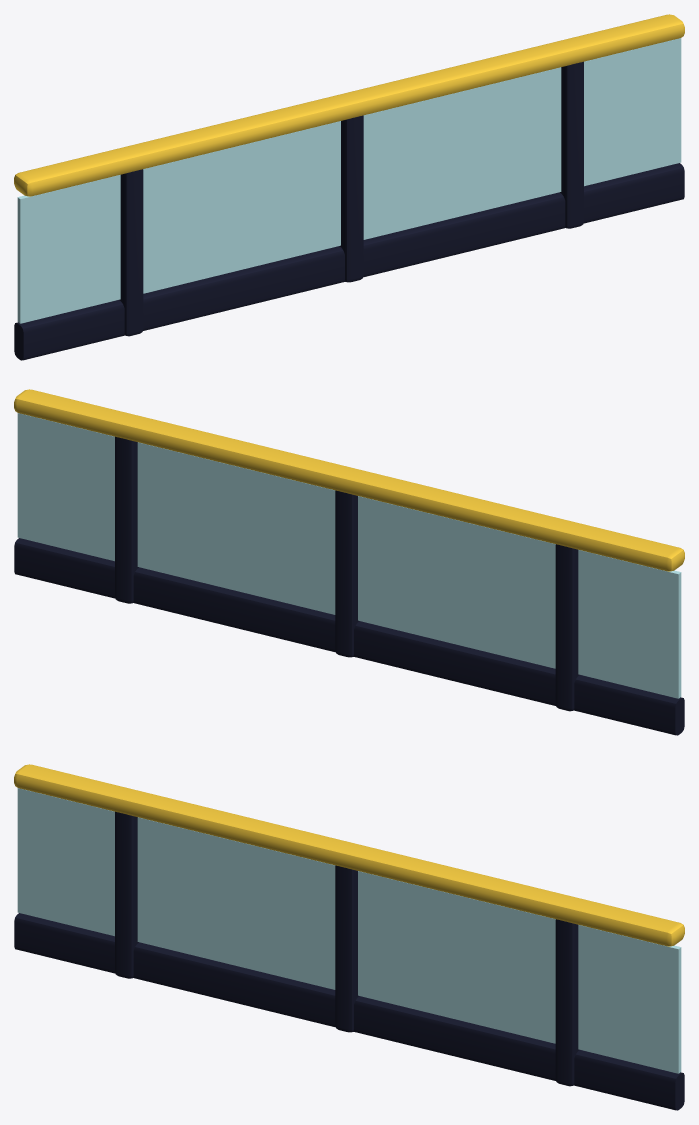
File: railing.glb
3 renders of one model, top to bottom at view 1: azimuth 30°, elevation 25°; view 2: azimuth 150°, elevation 25°; view 3: azimuth 330°, elevation 25°, orthographic.
Visible parts, largest first — view 1: Body; view 2: Body; view 3: Body.
Boxes of the visible parts, box(x1,y1,x2,y2) form: Body: box(14, 14, 684, 360); Body: box(14, 389, 684, 735); Body: box(14, 764, 684, 1110).
Bounding box in the file's own units: 4 × 1.05 × 0.16.
